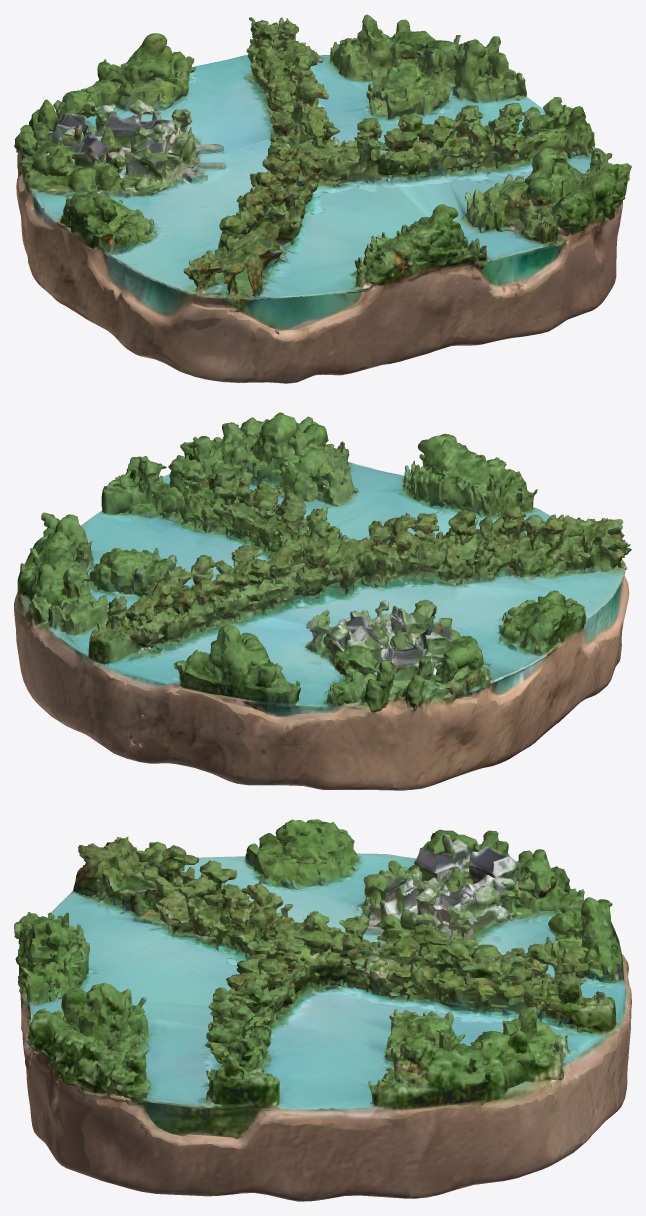
The model's file is xixi.min.glb.
The picture shows the model from 3 angles, top to bottom: view 1: azimuth 30°, elevation 25°; view 2: azimuth 150°, elevation 25°; view 3: azimuth 270°, elevation 25°; orthographic projection. The views are drawn at different scales.
Parts seen in each view (by area): view 1: geometry_0; view 2: geometry_0; view 3: geometry_0.
Part boxes in pixels (x1,y1,x2,y2): geometry_0: [14, 14, 631, 383]; geometry_0: [14, 412, 631, 790]; geometry_0: [14, 819, 631, 1201].
Size of the model in its own units: 0.5999 by 0.1839 by 0.6005.
Materials: 1 (1 with a texture image).
